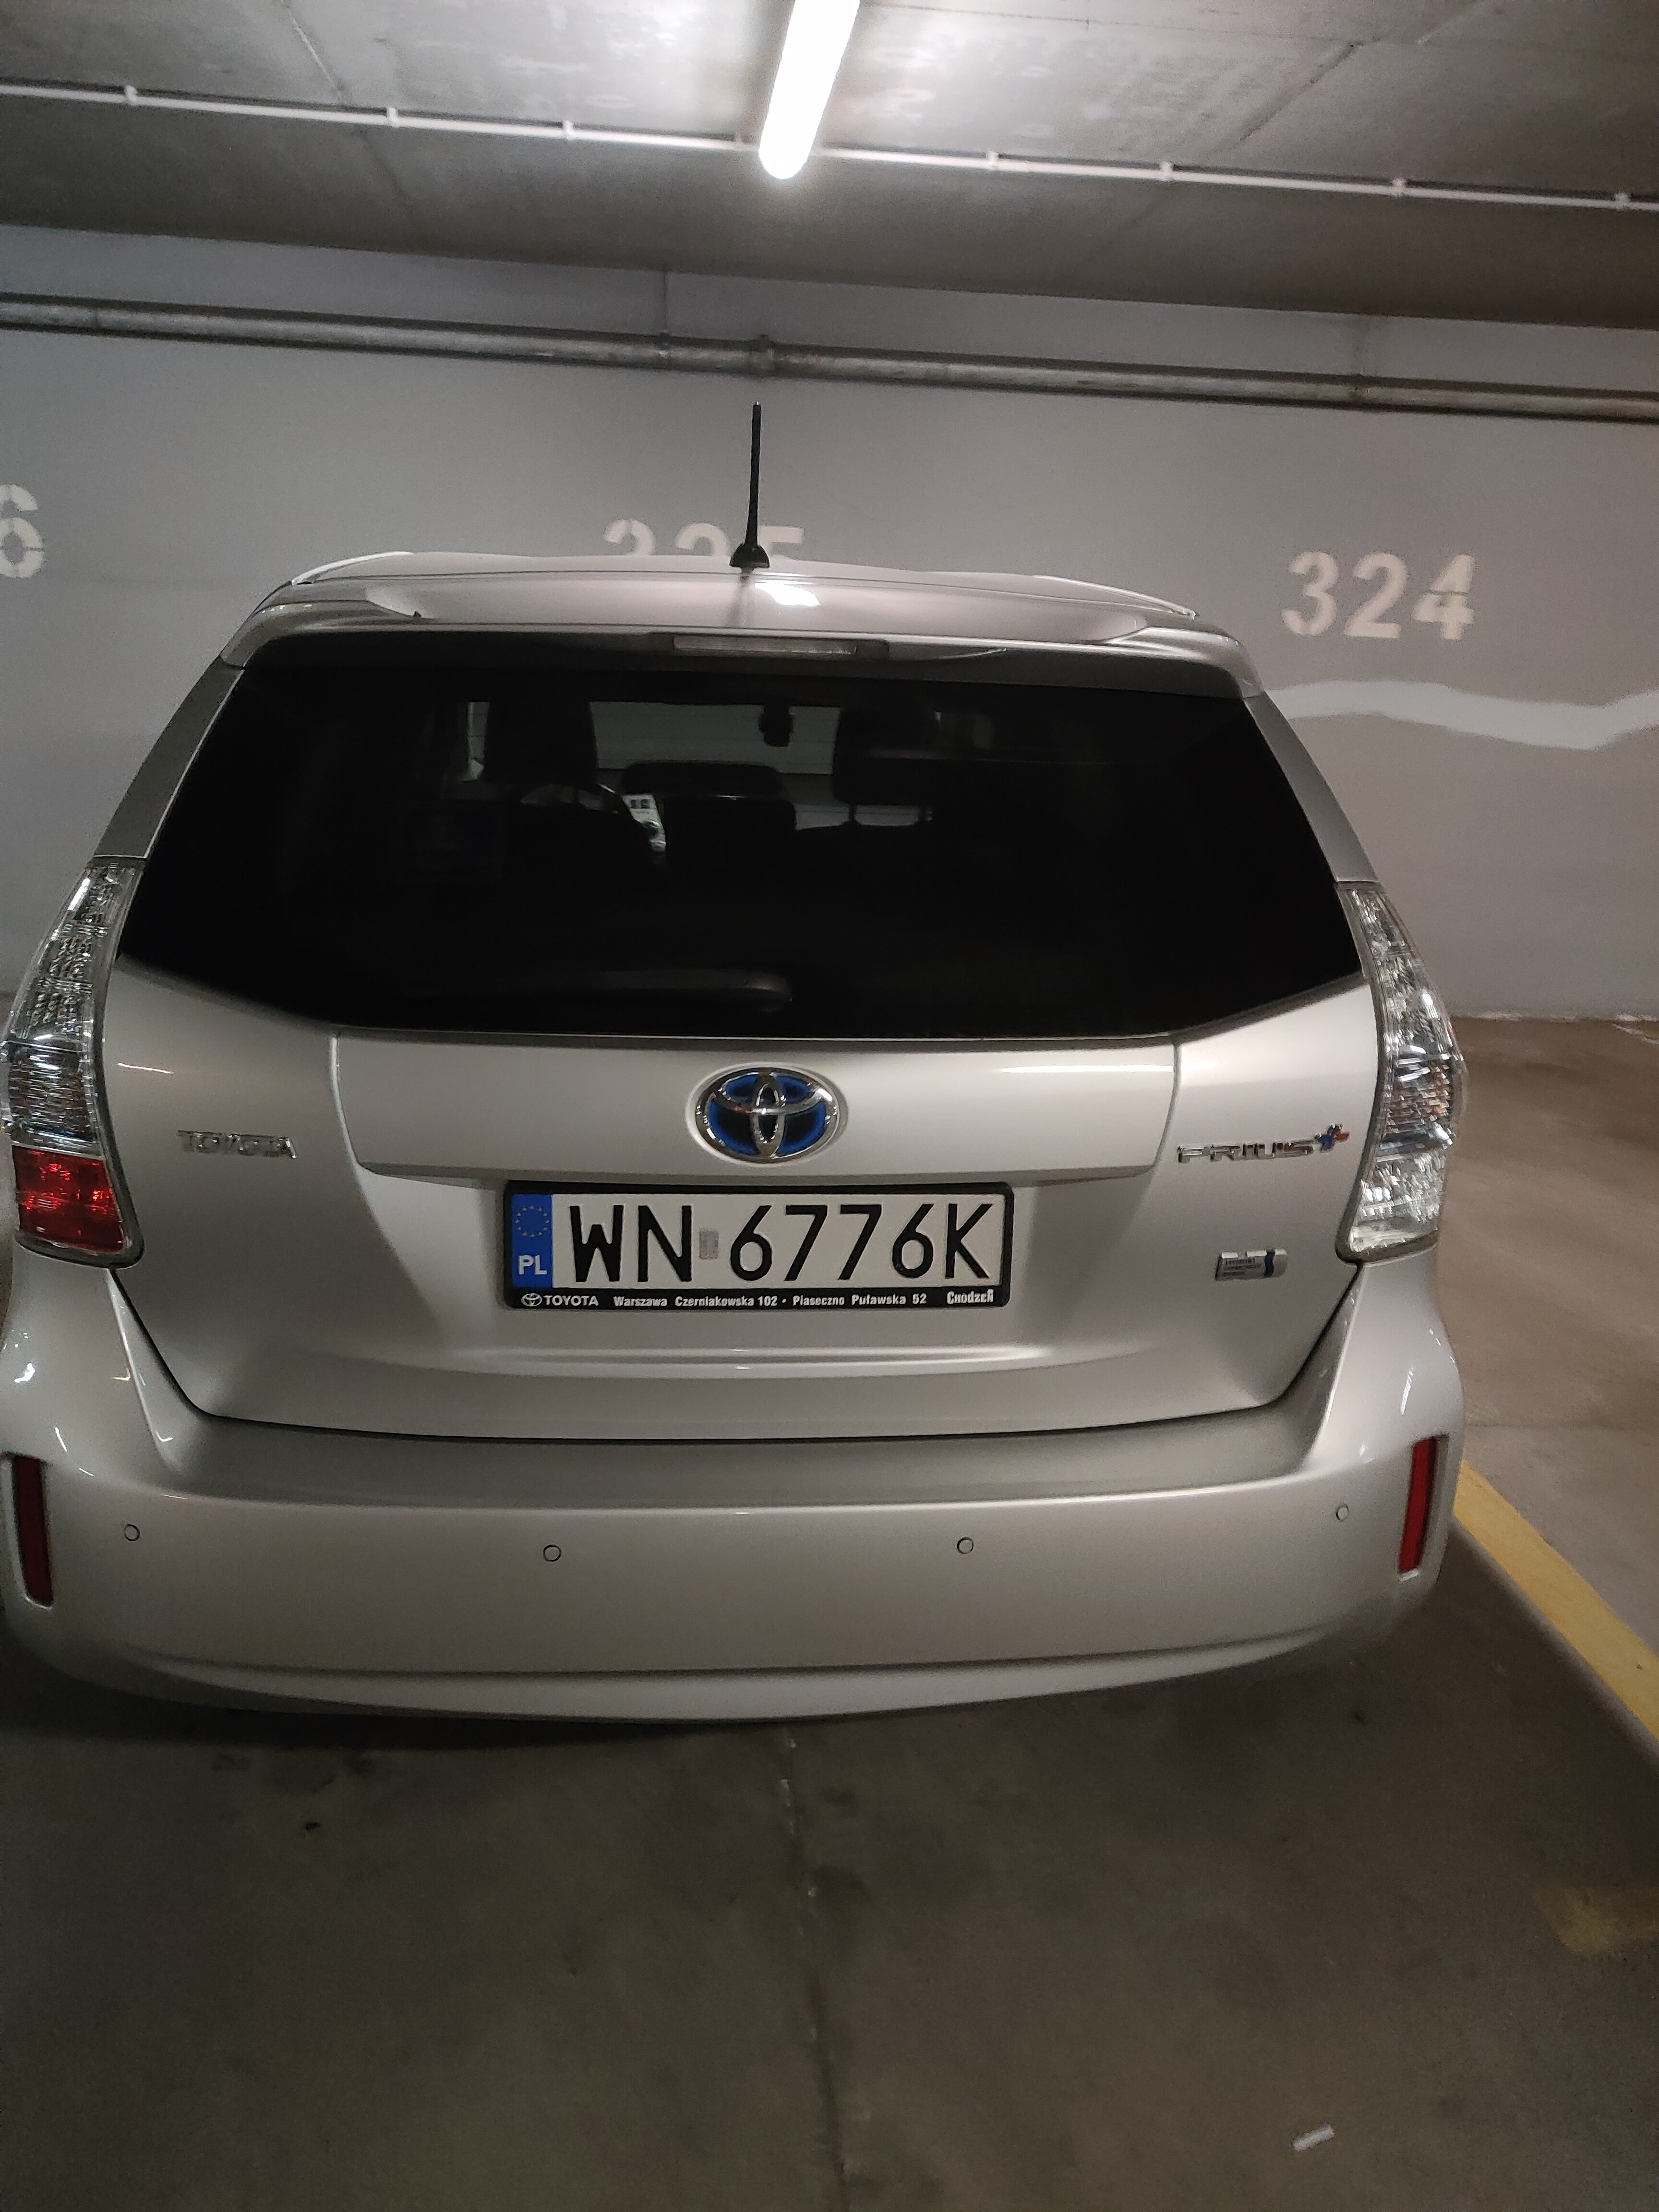number_plate: (503, 1180, 1010, 1312)
